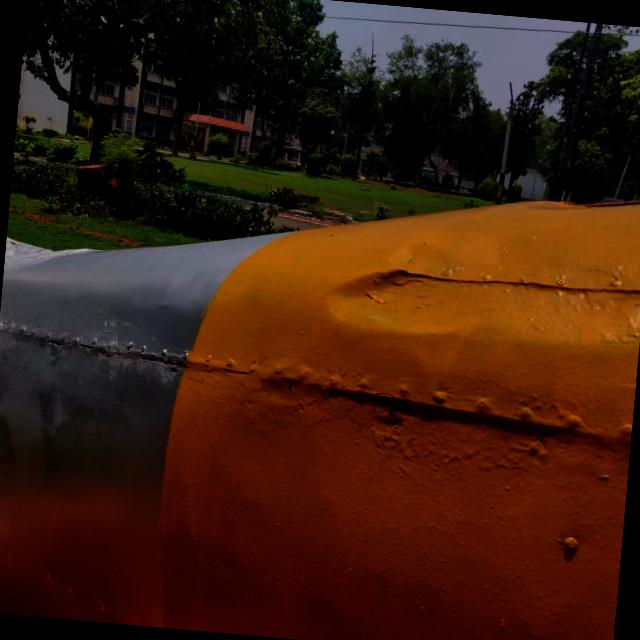dent: (296, 216, 504, 364)
